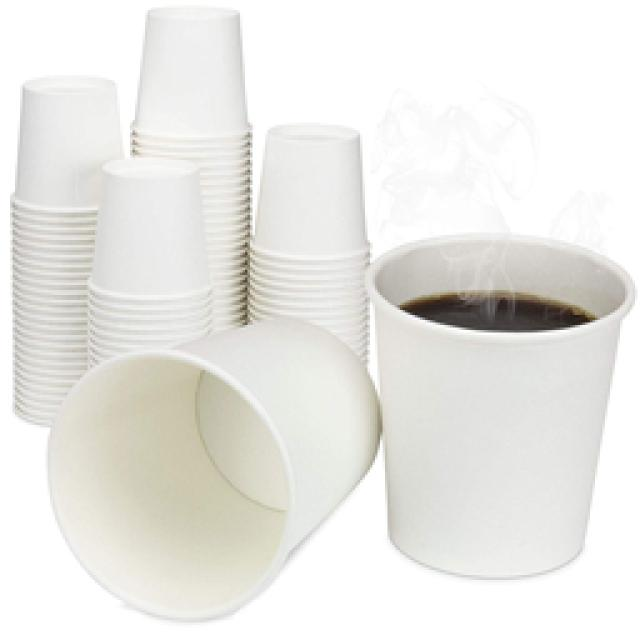paper_cups: (43, 315, 381, 622), (376, 234, 638, 579), (87, 160, 212, 342), (249, 123, 373, 288), (4, 71, 124, 241), (127, 0, 252, 152)
